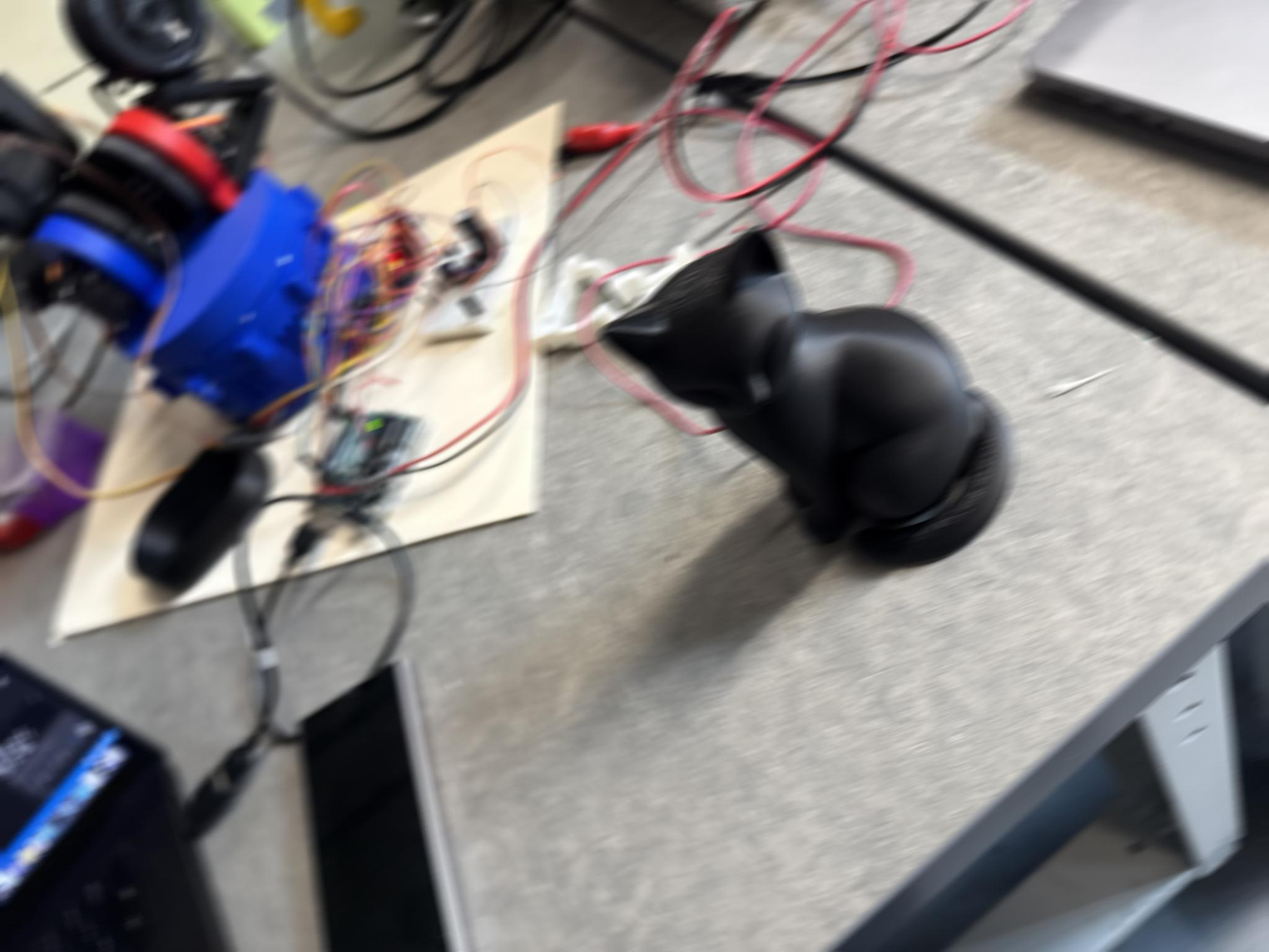cat: (586, 226, 1016, 576)
